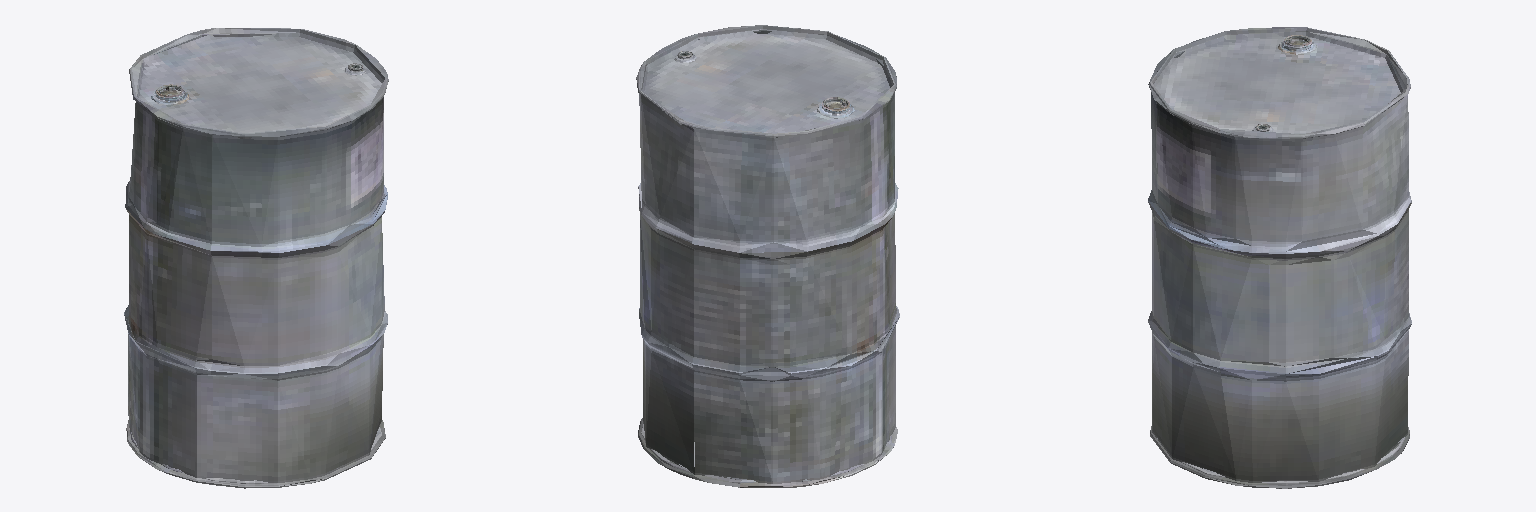
3 views of the same model, side by side, from view 1: azimuth 30°, elevation 25°; view 2: azimuth 150°, elevation 25°; view 3: azimuth 270°, elevation 25° (orthographic).
Parts seen in each view (by area): view 1: plechovy_sud_1_low_plechovy_sud_1_low_0; view 2: plechovy_sud_1_low_plechovy_sud_1_low_0; view 3: plechovy_sud_1_low_plechovy_sud_1_low_0.
Boxes of the visible parts, box(x1,y1,x2,y2) form: plechovy_sud_1_low_plechovy_sud_1_low_0: box(124, 28, 388, 488); plechovy_sud_1_low_plechovy_sud_1_low_0: box(636, 25, 899, 487); plechovy_sud_1_low_plechovy_sud_1_low_0: box(1148, 27, 1411, 488).
Bounding box in the file's own units: 1.17 × 1.74 × 1.17.
Materials: 1 (1 with a texture image).